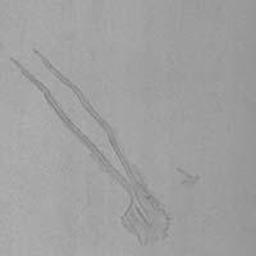Water spot: (9, 49, 173, 246), (177, 168, 201, 187)
